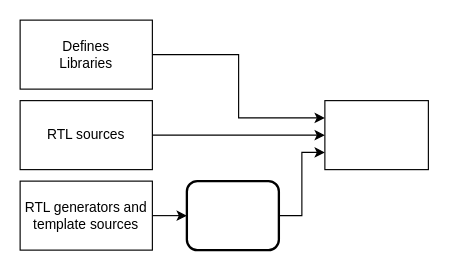
Image size: 449x271. Some labels were removed from this diagram. Here are the shapes that lost their labels. From the top down, the centre of each, then its label:
the point at 376,134: Design representation
the point at 232,215: RTL generation
